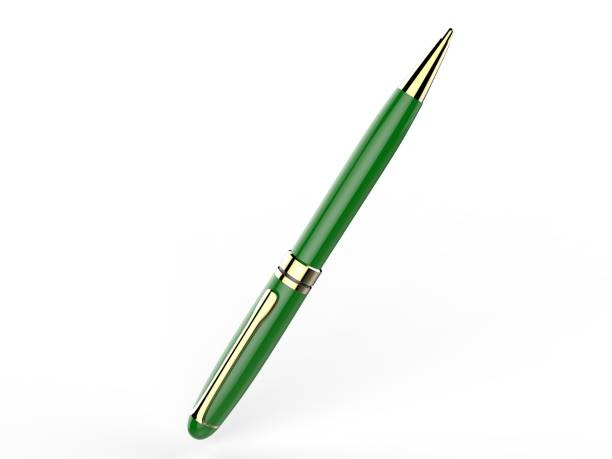pen: (173, 24, 461, 446)
